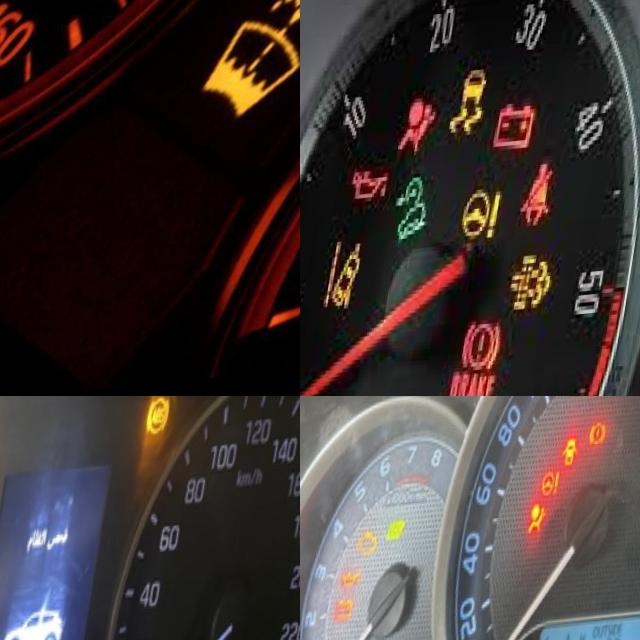Electronic Power Steering: (465, 195, 517, 252)
Seat Belt: (532, 167, 564, 234)
Washer Fluid: (213, 0, 300, 122)
